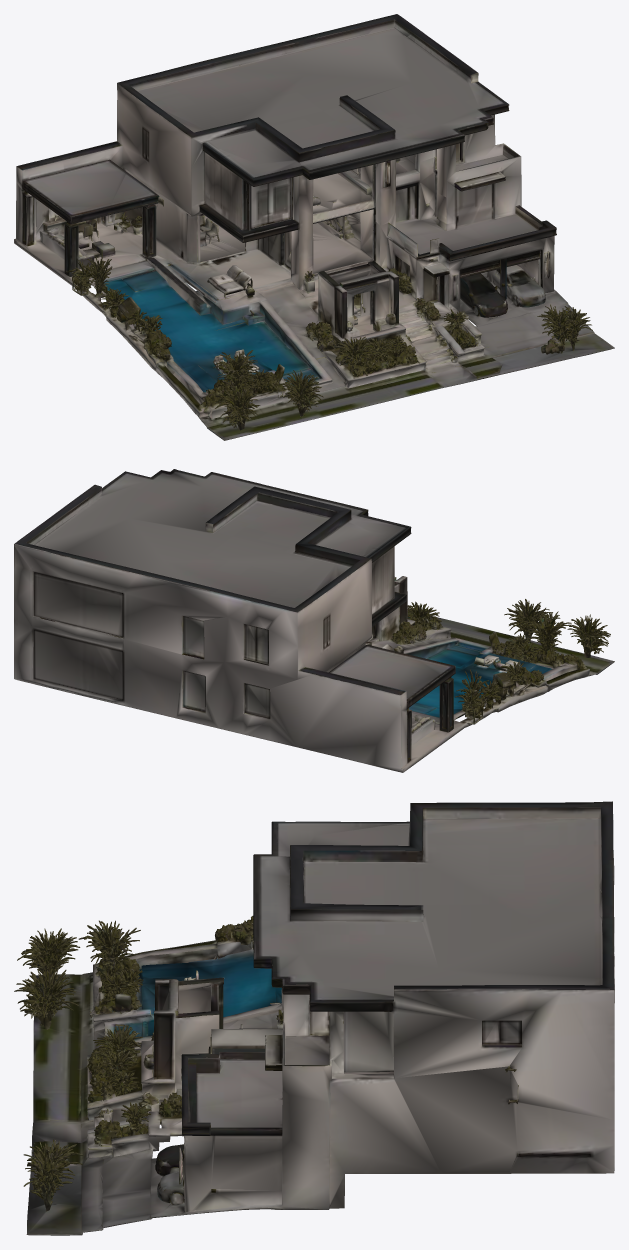
File: villa-house-lite.glb
3 views of the same model, one above another, from view 1: azimuth 30°, elevation 25°; view 2: azimuth 150°, elevation 25°; view 3: azimuth 270°, elevation 25° (orthographic). The views are drawn at different scales.
Visible parts, largest first — view 1: mesh_node; view 2: mesh_node; view 3: mesh_node.
Part boxes in pixels (x1=…): mesh_node: x1=14, y1=14, x2=614, y2=440; mesh_node: x1=14, y1=469, x2=614, y2=772; mesh_node: x1=14, y1=801, x2=614, y2=1235.
Bounding box in the file's own units: 1.92 × 0.8229 × 1.83.
1 material, 1 textured.
